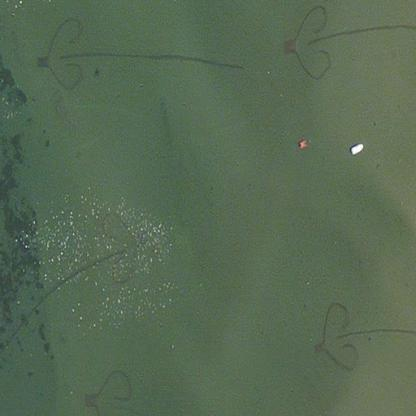ship: (346, 136, 370, 160), (292, 133, 313, 153)
